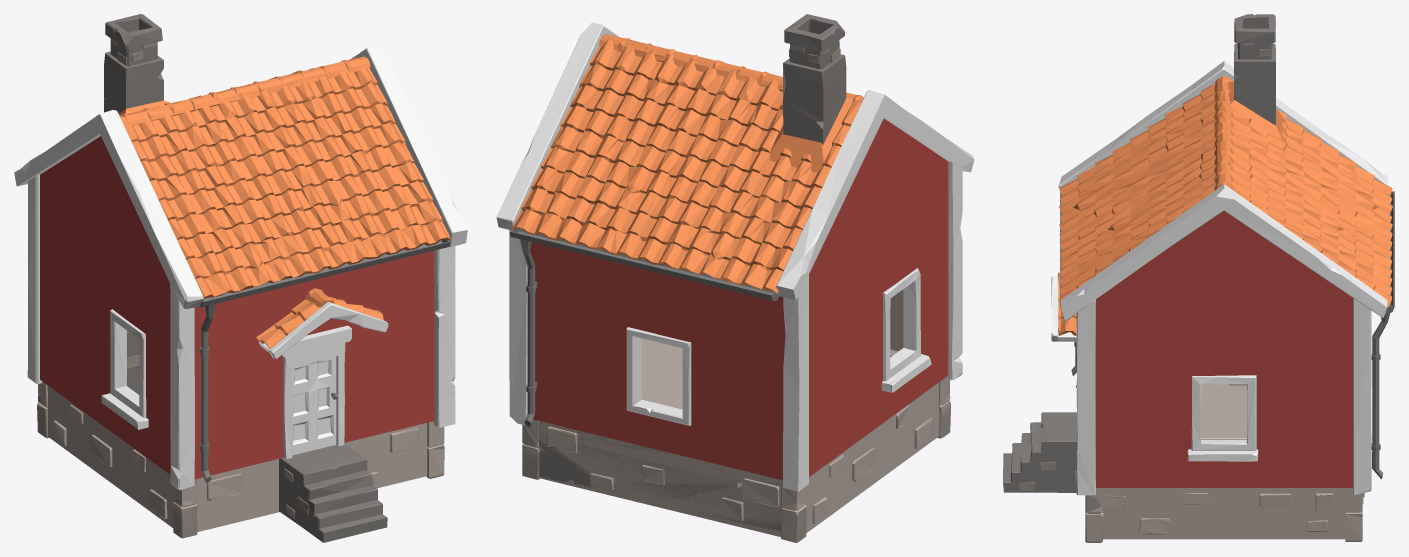
File: SM_House_01_LOD1.fbx
3 renders of one model, left to right at view 1: azimuth 30°, elevation 25°; view 2: azimuth 150°, elevation 25°; view 3: azimuth 270°, elevation 25°, orthographic. The views are drawn at different scales.
Parts seen in each view (by area): view 1: House, Foundation, Door_01; view 2: House, Foundation; view 3: House, Foundation.
Boxes of the visible parts, x1,y1,x2,y2 form: House: (14, 14, 467, 542); Foundation: (37, 381, 444, 531); Door_01: (292, 356, 338, 455); House: (496, 14, 974, 542); Foundation: (522, 339, 950, 541); House: (1003, 14, 1394, 542); Foundation: (1085, 384, 1364, 540).
Size of what is drawn, in the model's own units: 817 by 1203 by 1022.
